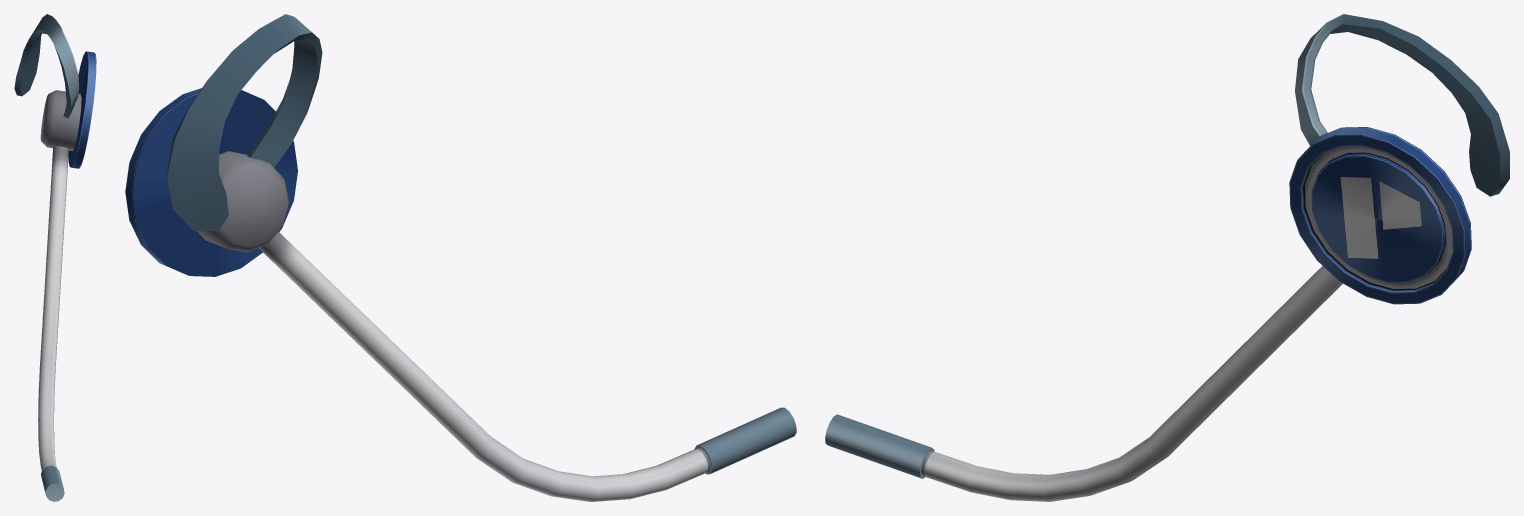
The model's file is EntrainingIntercomIzumi.fbx.
The picture shows the model from 3 angles, left to right: view 1: azimuth 30°, elevation 25°; view 2: azimuth 150°, elevation 25°; view 3: azimuth 270°, elevation 25°; orthographic projection. The views are drawn at different scales.
Visible parts, largest first — view 1: EntrainingIntercomIzumi; view 2: EntrainingIntercomIzumi; view 3: EntrainingIntercomIzumi.
Part boxes in pixels (x1,y1,x2,y2): EntrainingIntercomIzumi: [14, 14, 96, 501]; EntrainingIntercomIzumi: [125, 14, 796, 501]; EntrainingIntercomIzumi: [825, 14, 1509, 501].
Size of the model in its own units: 0.0487 by 0.0704 by 0.0758.
1 material, 1 textured.
